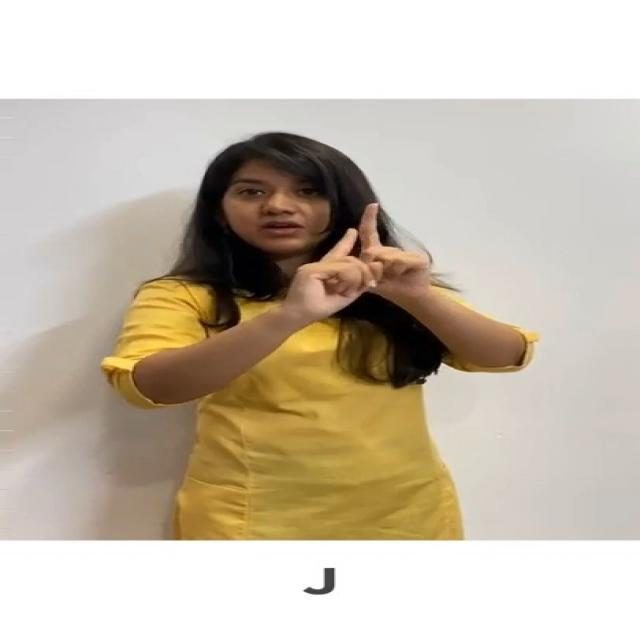J: (273, 198, 474, 329)
